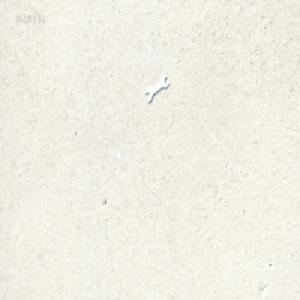Wrench: (145, 73, 169, 103)
